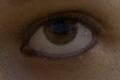eye: (45, 16, 78, 45)
